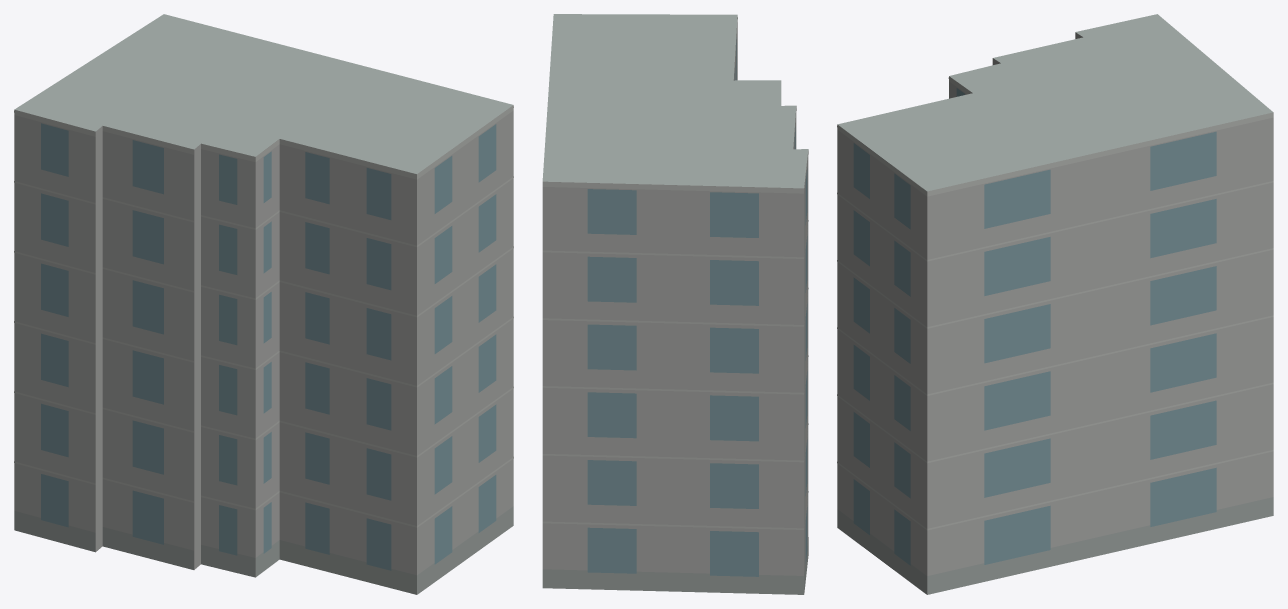
Rendered from survey-upis-32680632.glb.
3 views of the same model, side by side, from view 1: azimuth 30°, elevation 25°; view 2: azimuth 150°, elevation 25°; view 3: azimuth 270°, elevation 25° (orthographic). The views are drawn at different scales.
Parts seen in each view (by area): view 1: survey-upis-32680632.tmp; view 2: survey-upis-32680632.tmp; view 3: survey-upis-32680632.tmp.
Boxes of the visible parts, x1,y1,x2,y2 form: survey-upis-32680632.tmp: (14, 14, 513, 594); survey-upis-32680632.tmp: (542, 14, 808, 594); survey-upis-32680632.tmp: (837, 14, 1273, 594).
Bounding box in the file's own units: 18.03 × 19.08 × 18.72.
